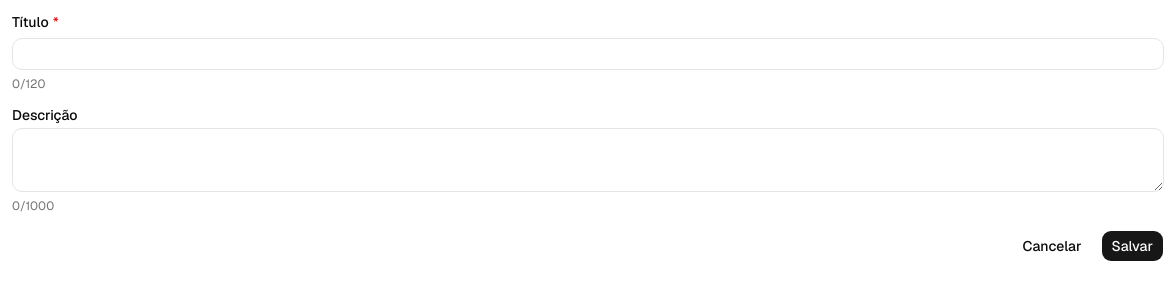
Test: NovaTarefa › título vazio: nada vai ao servidor nem redireciona
The width and height of the screenshot is (1176, 304).
Click the button "Salvar".
click(1132, 246)  # box top-left (1100, 230), bottom-right (1164, 262)
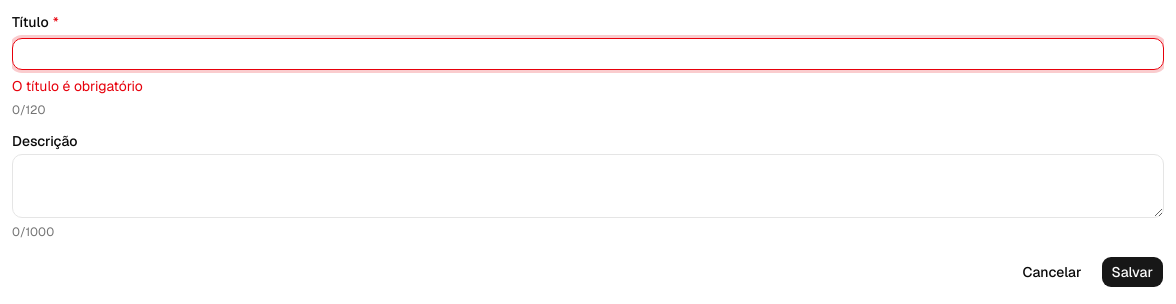
Expected: the text "O título é obrigatório" is shown, top-left (12, 77), bottom-right (143, 95)
